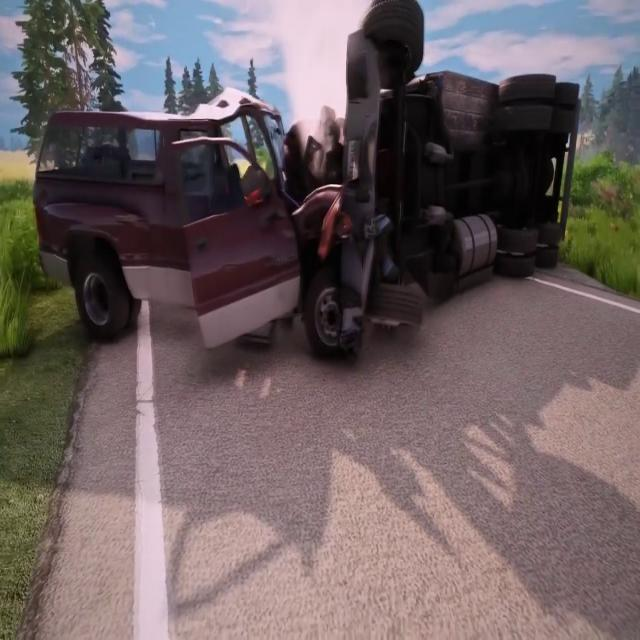accident: (31, 5, 586, 365)
